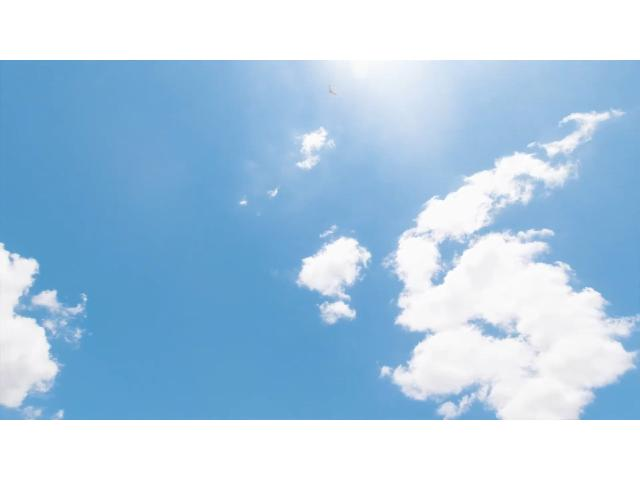Anti-Drone: (321, 80, 343, 98)
